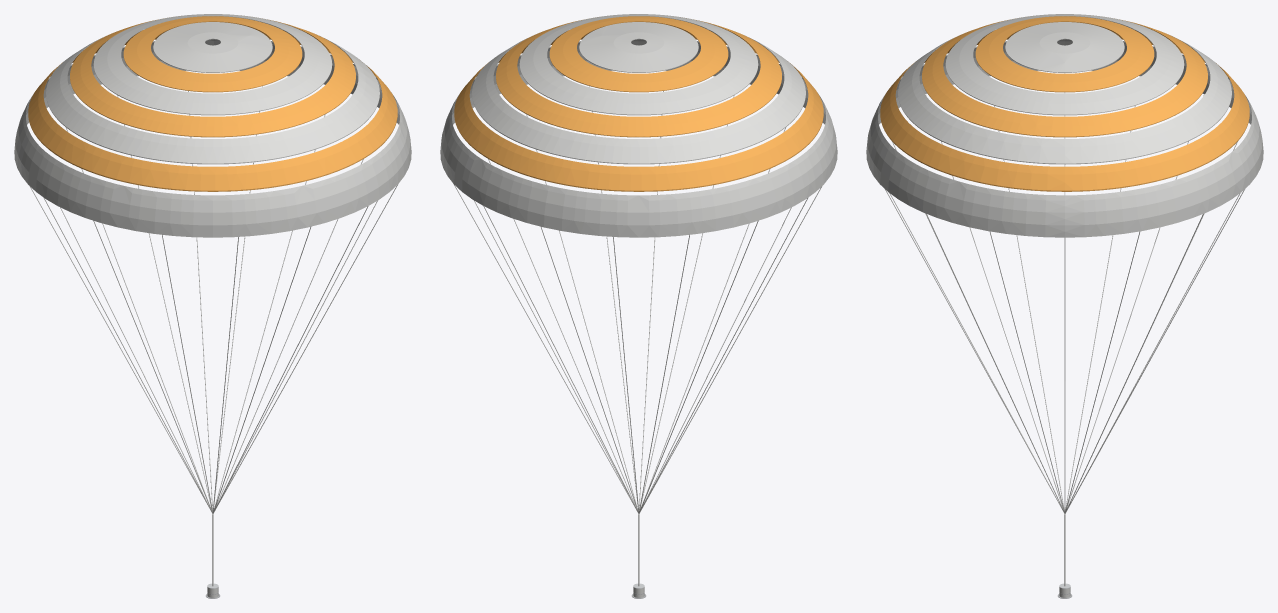
Rendered from stage08_main_chute_m_deployed.glb.
3 views of the same model, side by side, from view 1: azimuth 30°, elevation 25°; view 2: azimuth 150°, elevation 25°; view 3: azimuth 270°, elevation 25° (orthographic).
Parts seen in each view (by area): view 1: canopy_ring_6, canopy_ring_5, canopy_ring_4, canopy_ring_3, canopy_ring_2, lines_riser, canopy_ring_1, canopy_ring_0; view 2: canopy_ring_6, canopy_ring_5, canopy_ring_4, canopy_ring_3, canopy_ring_2, lines_riser, canopy_ring_1, canopy_ring_0; view 3: canopy_ring_6, canopy_ring_5, canopy_ring_4, canopy_ring_3, canopy_ring_2, canopy_ring_1, lines_riser, canopy_ring_0.
Part boxes in pixels (left/top/right/bottom): canopy_ring_6: left=14, top=39, right=411, bottom=237; canopy_ring_5: left=28, top=26, right=397, bottom=191; canopy_ring_4: left=46, top=28, right=379, bottom=164; canopy_ring_3: left=70, top=18, right=355, bottom=137; canopy_ring_2: left=93, top=14, right=332, bottom=115; lines_riser: left=29, top=86, right=397, bottom=586; canopy_ring_1: left=123, top=16, right=302, bottom=92; canopy_ring_0: left=153, top=22, right=272, bottom=72; canopy_ring_6: left=440, top=39, right=837, bottom=237; canopy_ring_5: left=454, top=24, right=823, bottom=191; canopy_ring_4: left=472, top=27, right=805, bottom=164; canopy_ring_3: left=496, top=18, right=781, bottom=137; canopy_ring_2: left=519, top=14, right=758, bottom=115; lines_riser: left=453, top=86, right=822, bottom=586; canopy_ring_1: left=549, top=16, right=728, bottom=92; canopy_ring_0: left=579, top=22, right=698, bottom=72; canopy_ring_6: left=866, top=39, right=1263, bottom=237; canopy_ring_5: left=880, top=26, right=1249, bottom=191; canopy_ring_4: left=898, top=28, right=1231, bottom=164; canopy_ring_3: left=922, top=18, right=1207, bottom=137; canopy_ring_2: left=945, top=14, right=1184, bottom=115; canopy_ring_1: left=975, top=16, right=1154, bottom=92; lines_riser: left=885, top=73, right=1244, bottom=586; canopy_ring_0: left=1005, top=22, right=1124, bottom=72.
Bounding box in the file's own units: 29.98 × 46.12 × 29.99.
